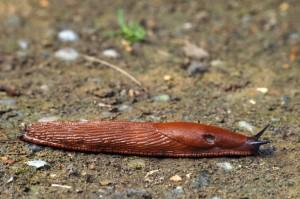slug: (13, 100, 271, 169)
